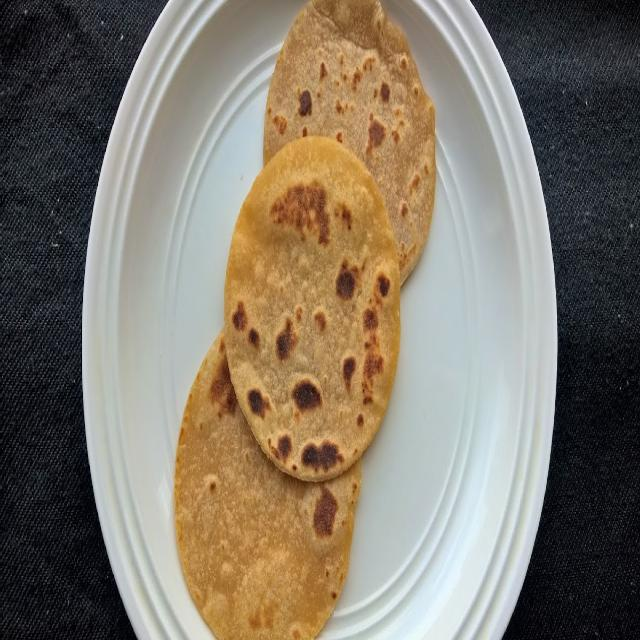ROTI: (224, 137, 401, 478)
